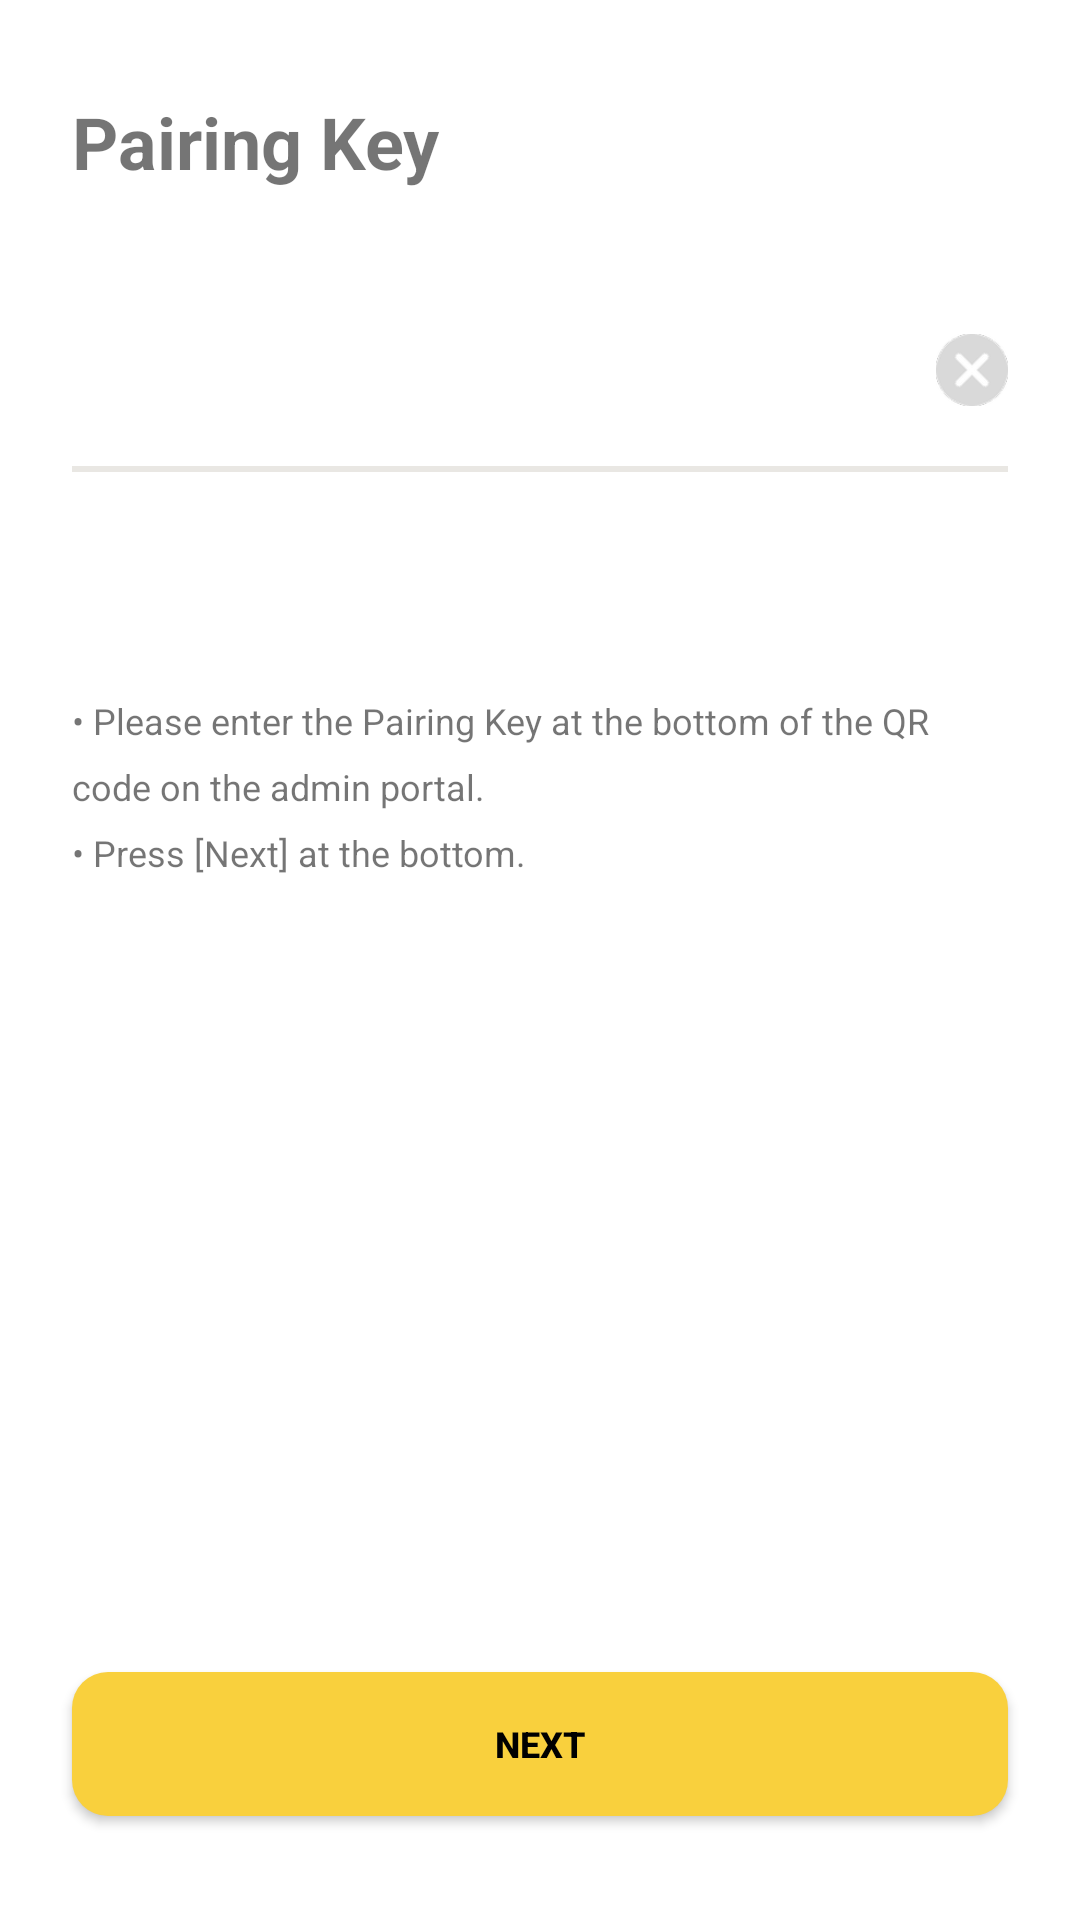

Named icons in this screenshot (1080x1920) and their centers, (x,y):
edit delete: (972,370)
